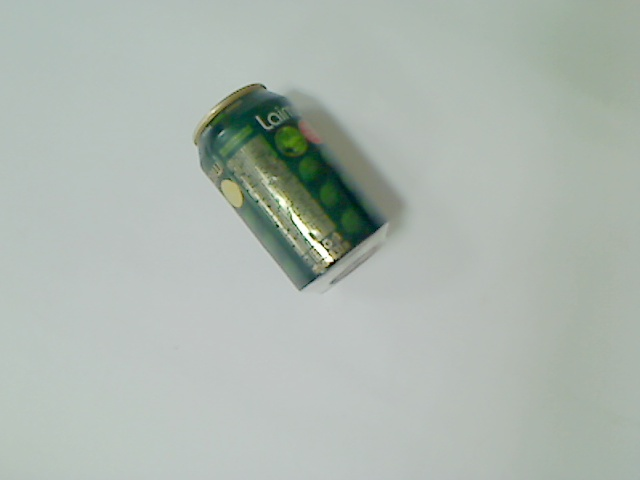can: (191, 82, 397, 299)
